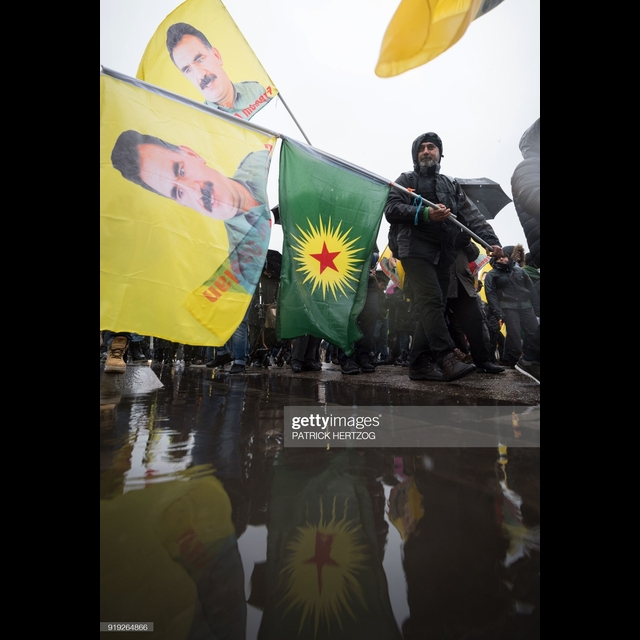APO: (107, 122, 241, 224), (165, 20, 230, 103)
KCK: (290, 205, 364, 303)
